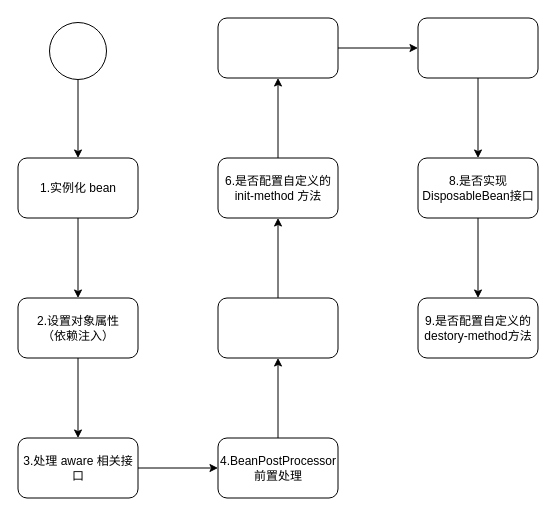
Image size: 555x515. Some labels were removed from this diagram. The shapes that lost their labels are listed below. From the top down, each one's centre as x and y in pixels, then its label:
point 77,51: 容器启动
point 277,47: 7.BeanPostProcessor 后置处理
point 477,47: 此时Bean 已被正确创建，可在系统中使用
point 277,327: 5.处理InitializingBean接口
